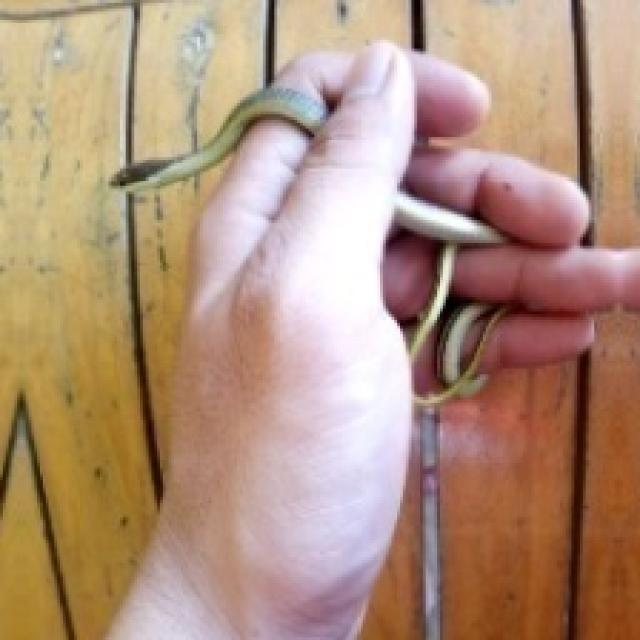luzon bronzeback treesnake: (391, 191, 506, 406), (111, 86, 323, 191)
